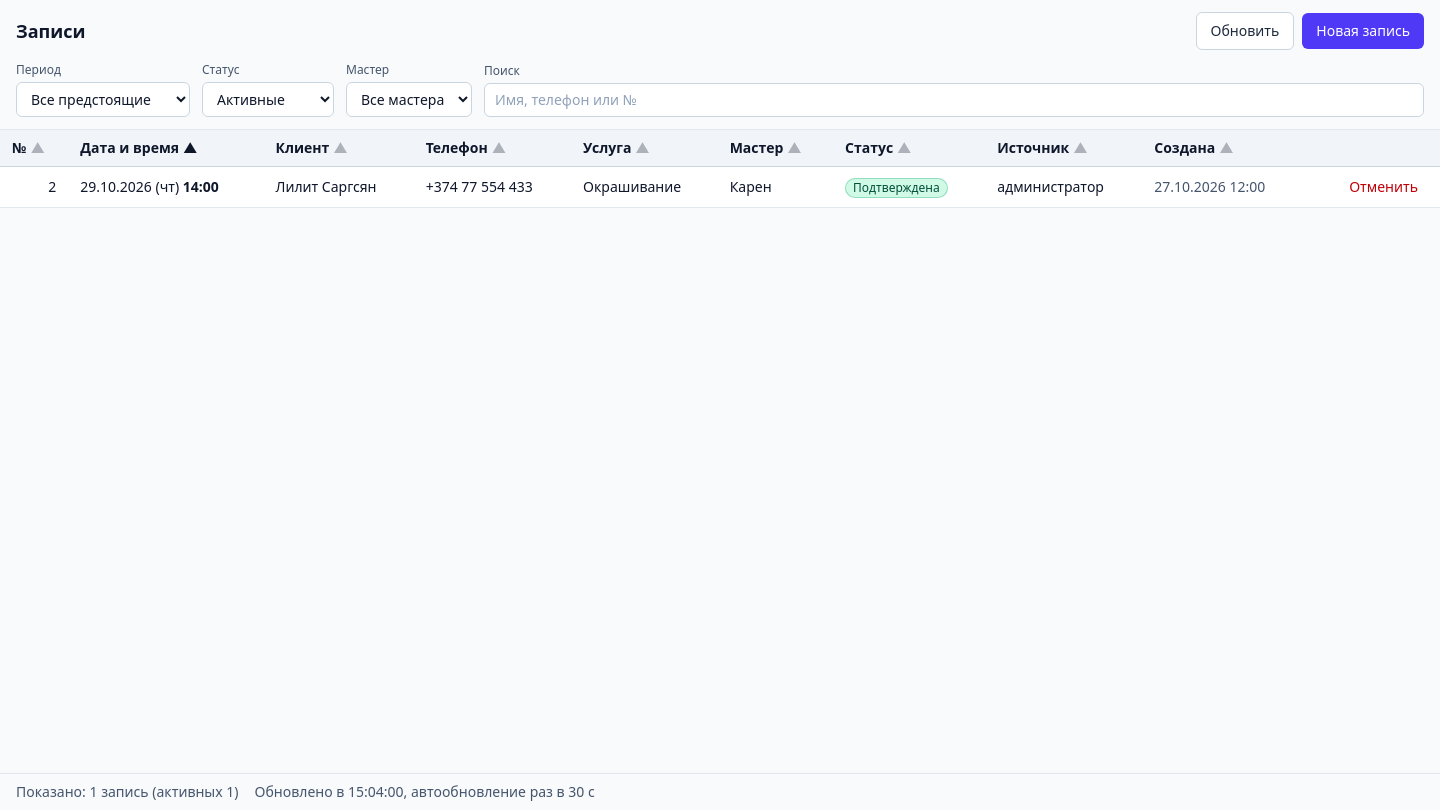
it: BookingsTab › «Не отменять» закрывает диалог без запроса
Click the button with aria-label "Отменить запись №2": (1384,187) [1339,173,1428,201]
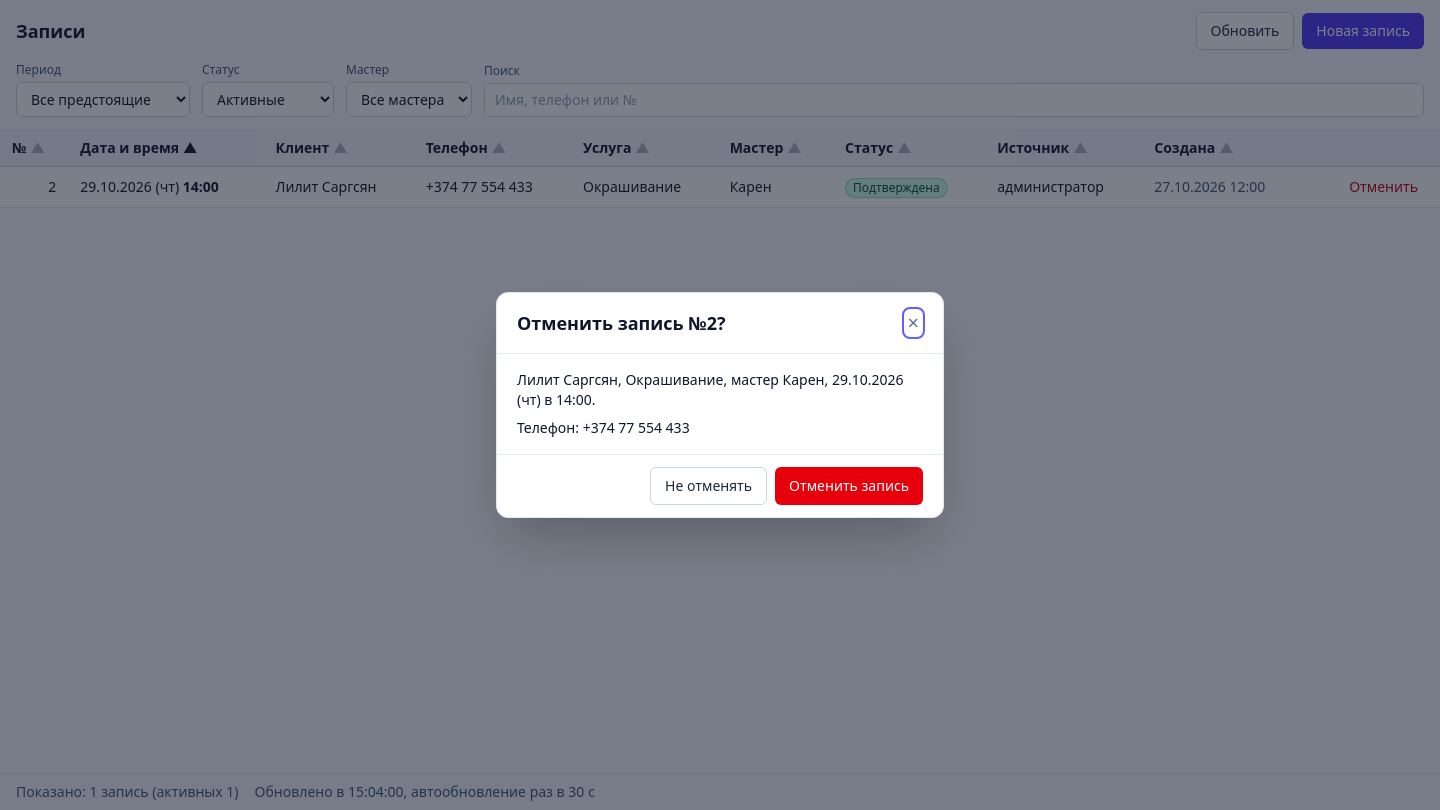
Click the button "Не отменять": (709,486) [650,467,767,505]
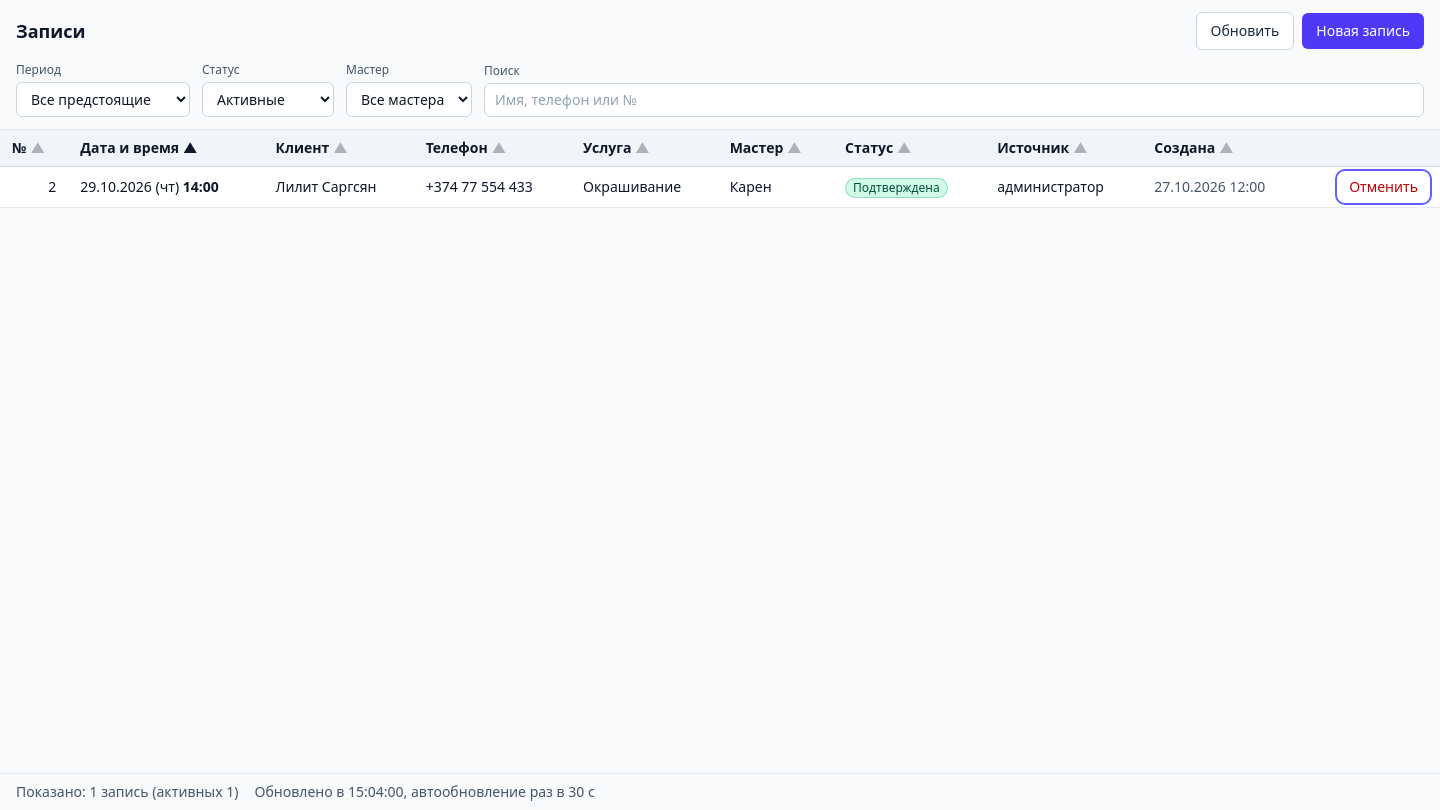
Check: the dialog is gone
